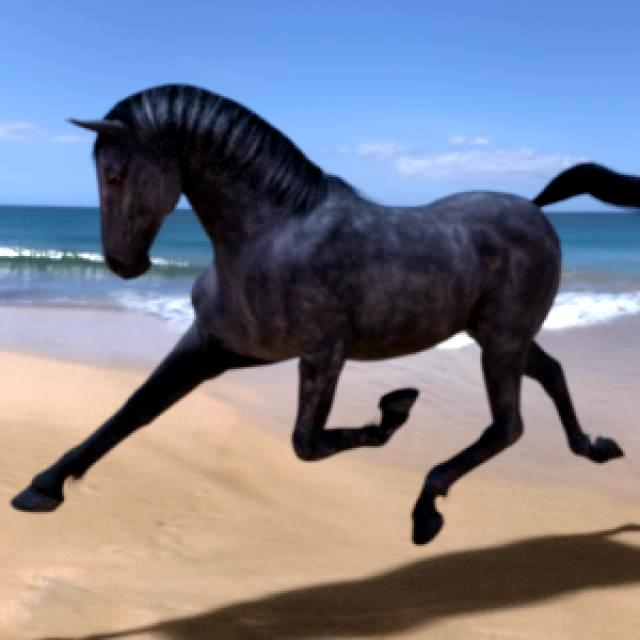horse: (12, 86, 640, 543)
